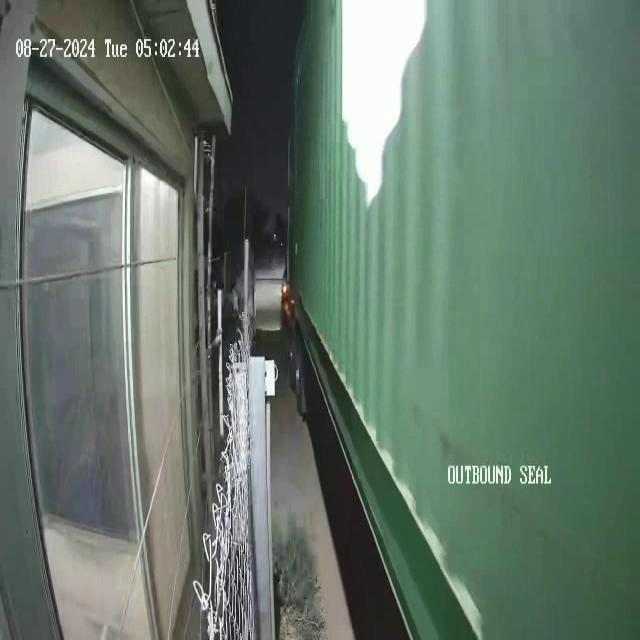TRUCK_OUT: (1, 1, 260, 638)
